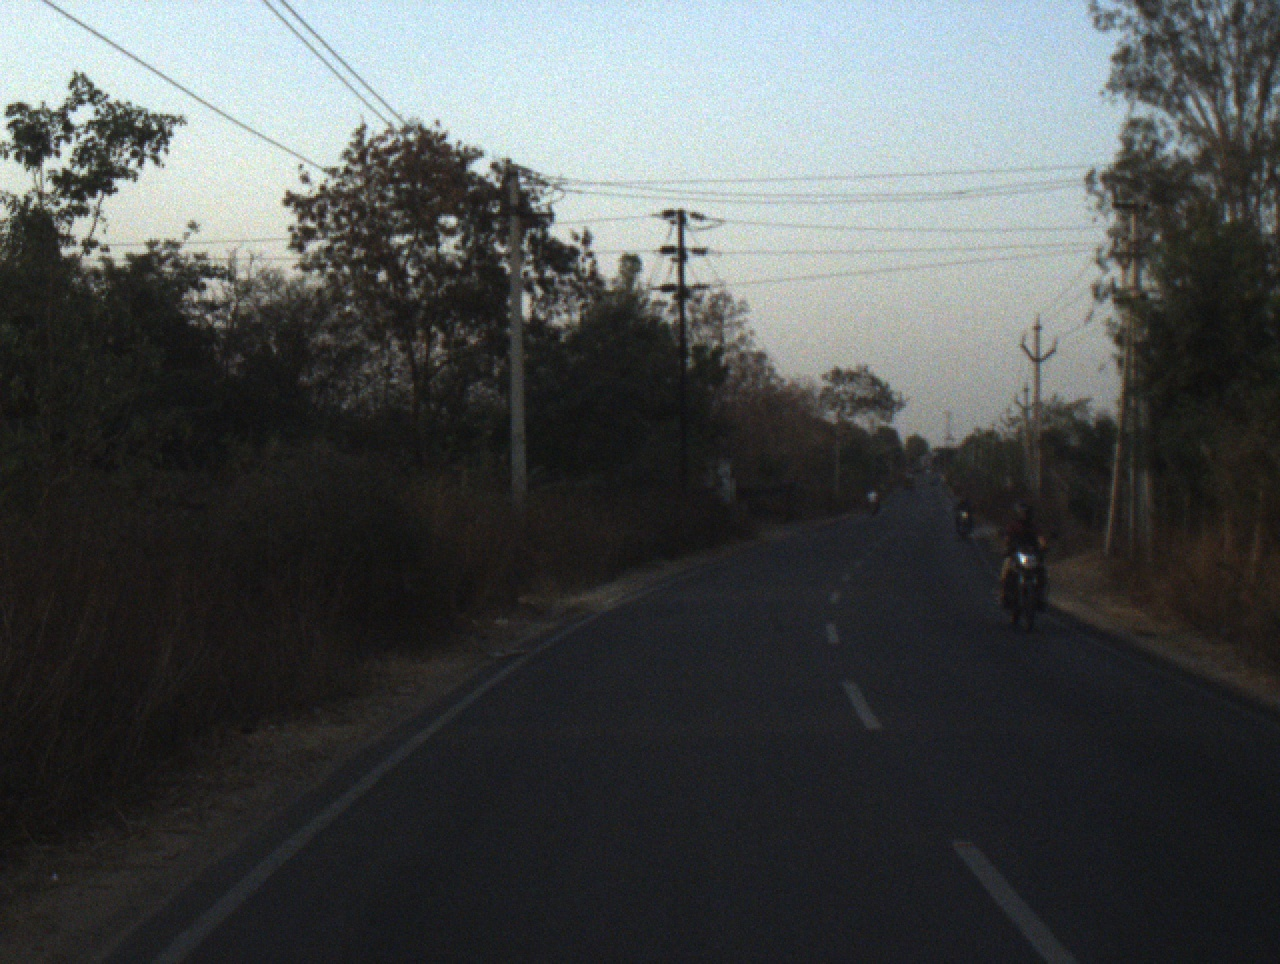autorickshaw: (901, 466, 916, 489)
motorcycle: (997, 530, 1058, 634), (953, 508, 973, 545), (862, 500, 878, 516)
rider: (994, 501, 1056, 613), (954, 490, 970, 524), (864, 488, 873, 502)
